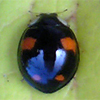Two_spots_mutant: (16, 12, 79, 93)
